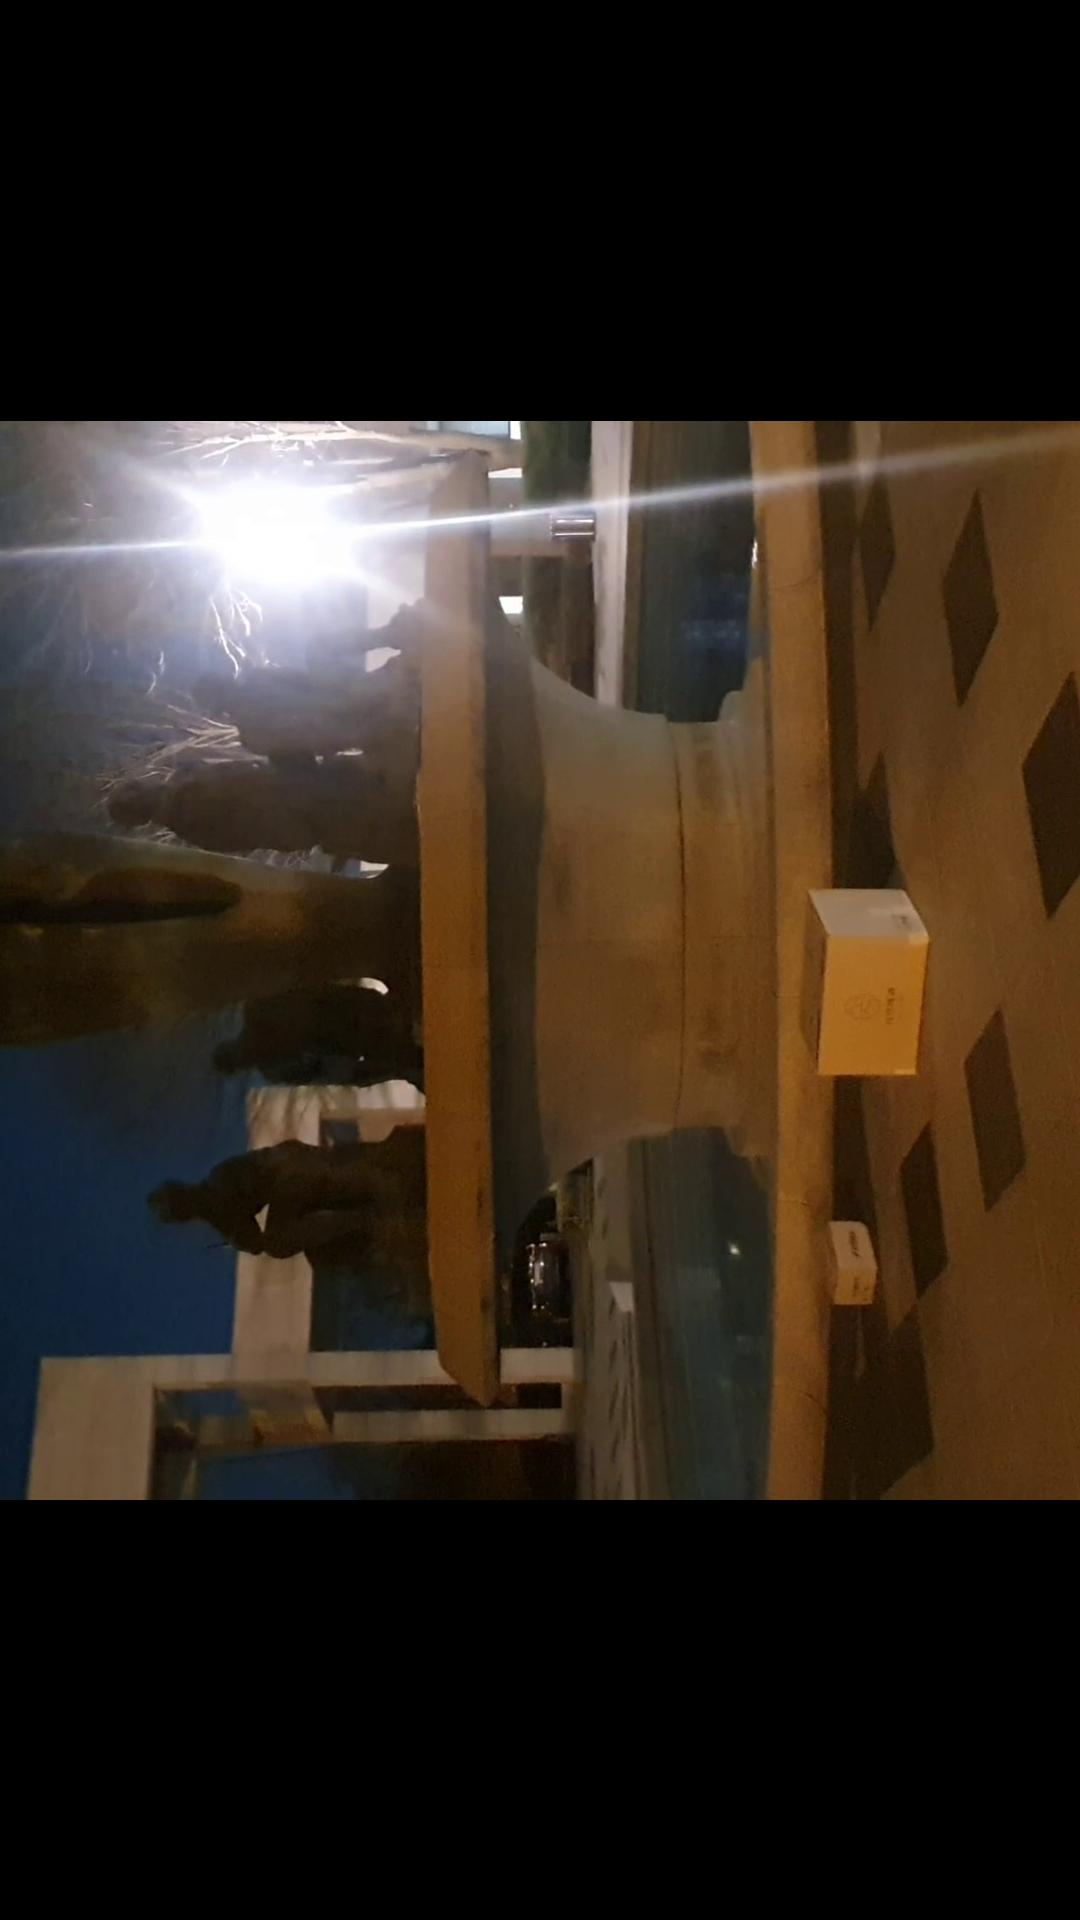Box: (795, 884, 930, 1097), (810, 1197, 897, 1312)
